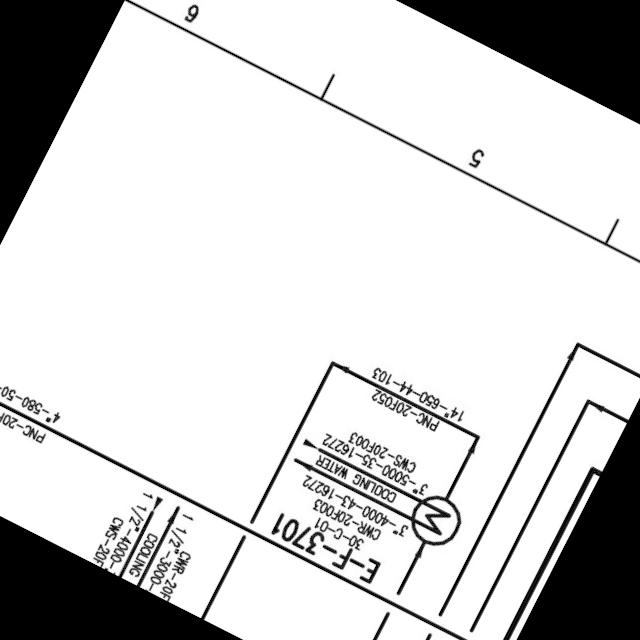HE: (398, 485, 472, 557)
